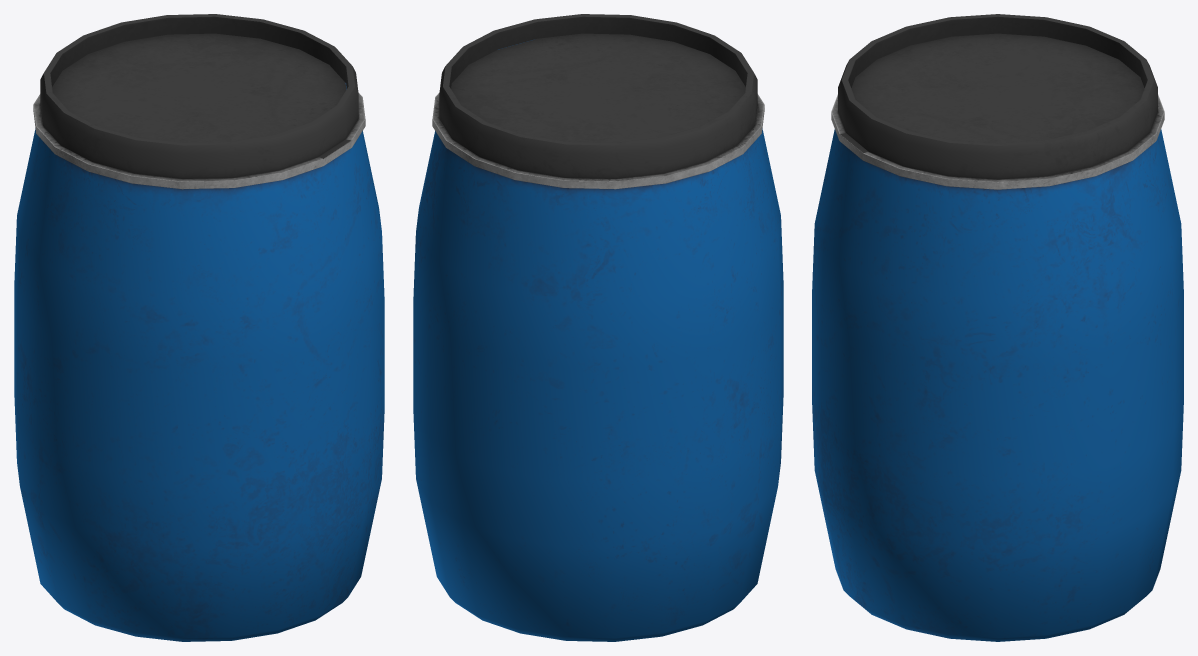
The model's file is PlasticBarrel.fbx.
3 renders of one model, left to right at view 1: azimuth 30°, elevation 25°; view 2: azimuth 150°, elevation 25°; view 3: azimuth 270°, elevation 25°, orthographic.
Visible parts, largest first — view 1: PlasticBarrel; view 2: PlasticBarrel; view 3: PlasticBarrel.
Part boxes in pixels (x1,y1,x2,y2): PlasticBarrel: (14, 14, 384, 641); PlasticBarrel: (413, 14, 783, 641); PlasticBarrel: (812, 14, 1183, 641).
Bounding box in the file's own units: 69.26 × 102 × 69.26.
1 material, 1 textured.
